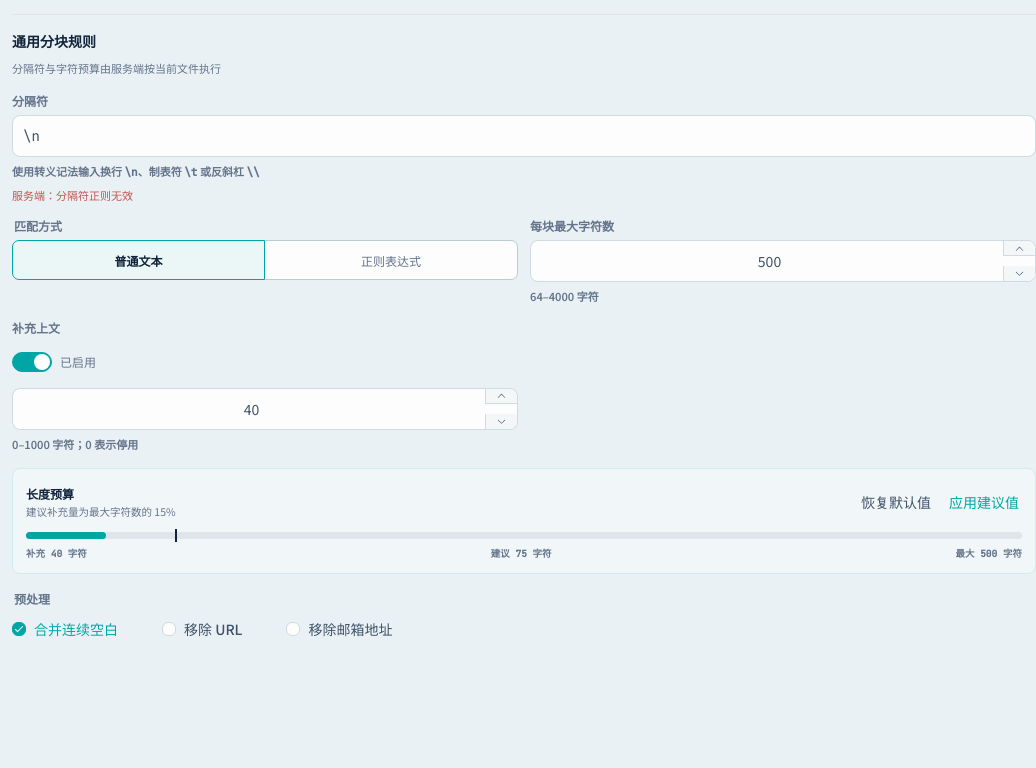
Test: GeneralStrategyConfig › shows a regex advisory separately from an authoritative server field error
Click the button with test id "delimiter-mode-regex" at (391, 260), box top-left (264, 240), bottom-right (518, 280)
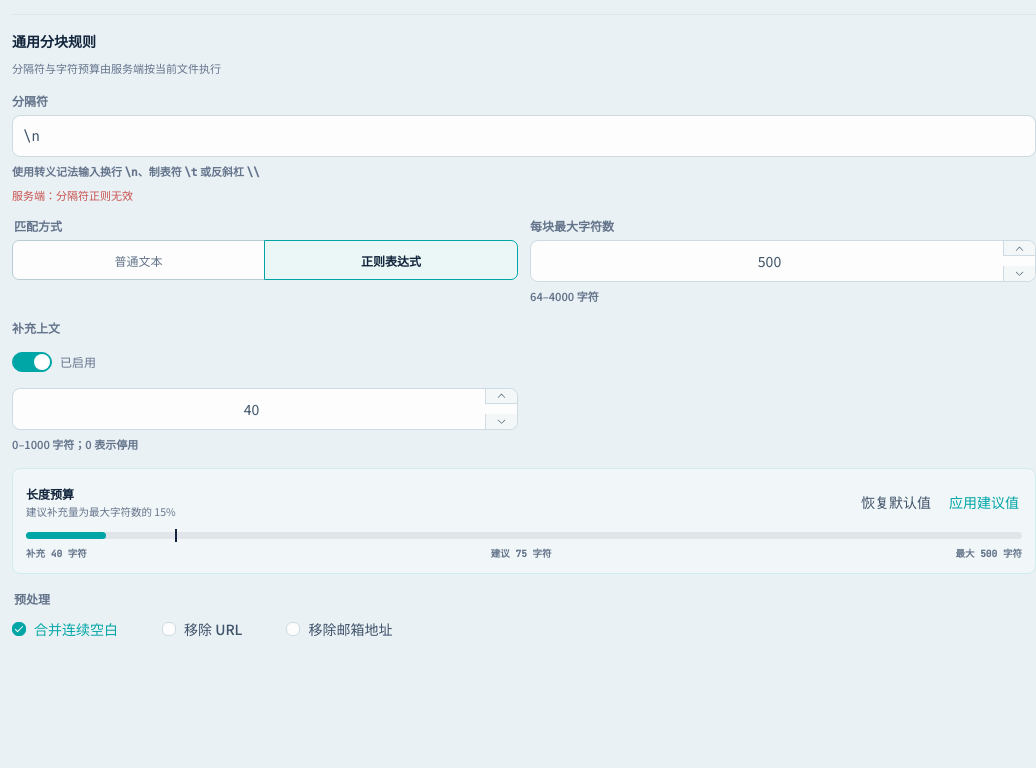
Replace the text in the field labelled "分隔符 使用转义记法输入换行 \\n、制表符 \\t 或反斜杠 \\\\ 服务端：分隔符正则无效" with "^" at (524, 136), box top-left (23, 116), bottom-right (1025, 156)
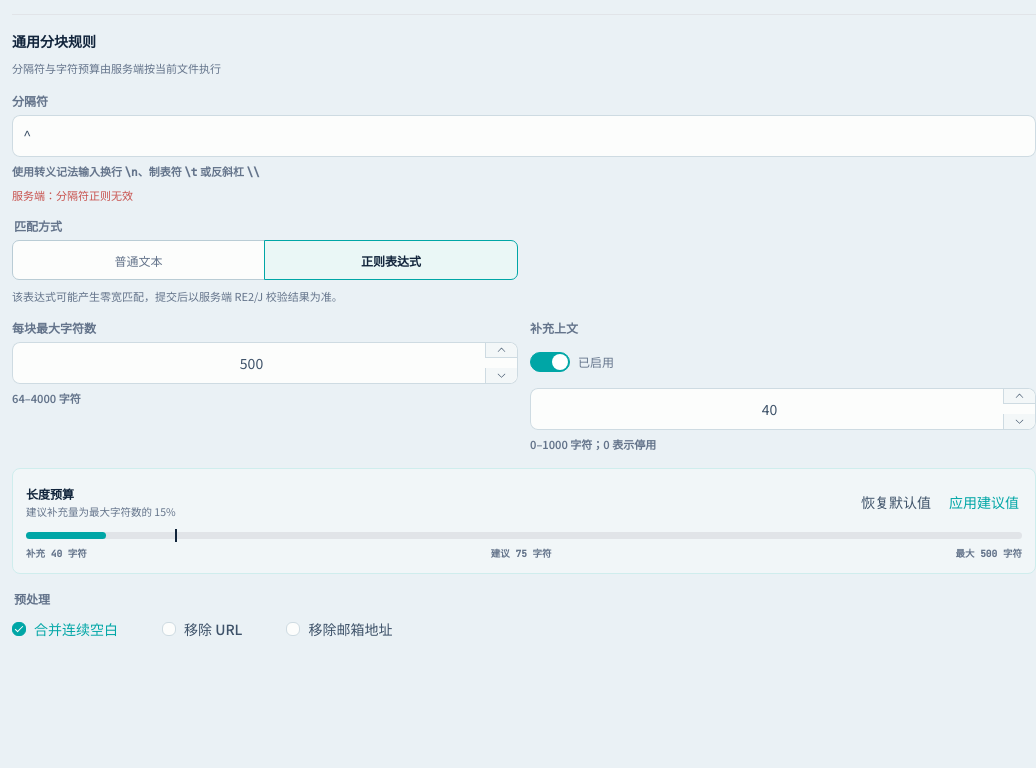
Check: the message with test id "field-error-delimiter" reads "服务端：分隔符正则无效", box top-left (12, 186), bottom-right (133, 202)
Check: the text with test id "regex-advisory" shows "零宽", box top-left (12, 288), bottom-right (343, 304)
